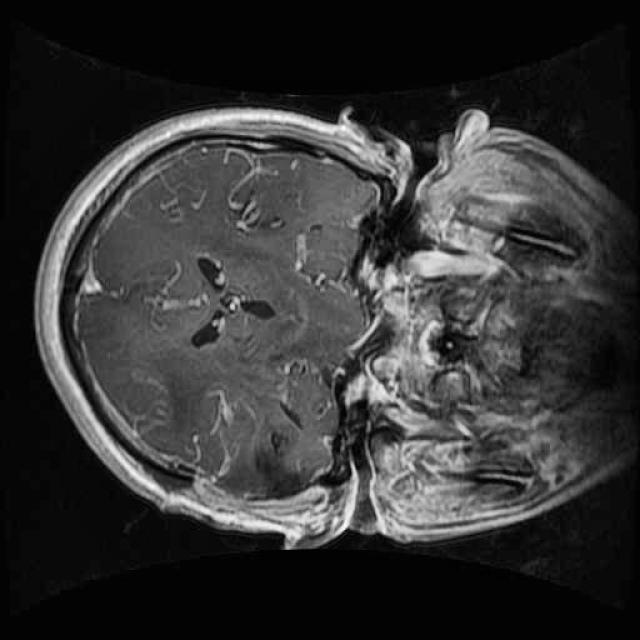Tumor: (223, 416, 338, 514)
